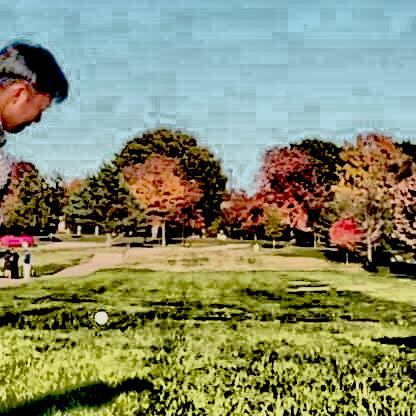golfball: (91, 307, 106, 321)
